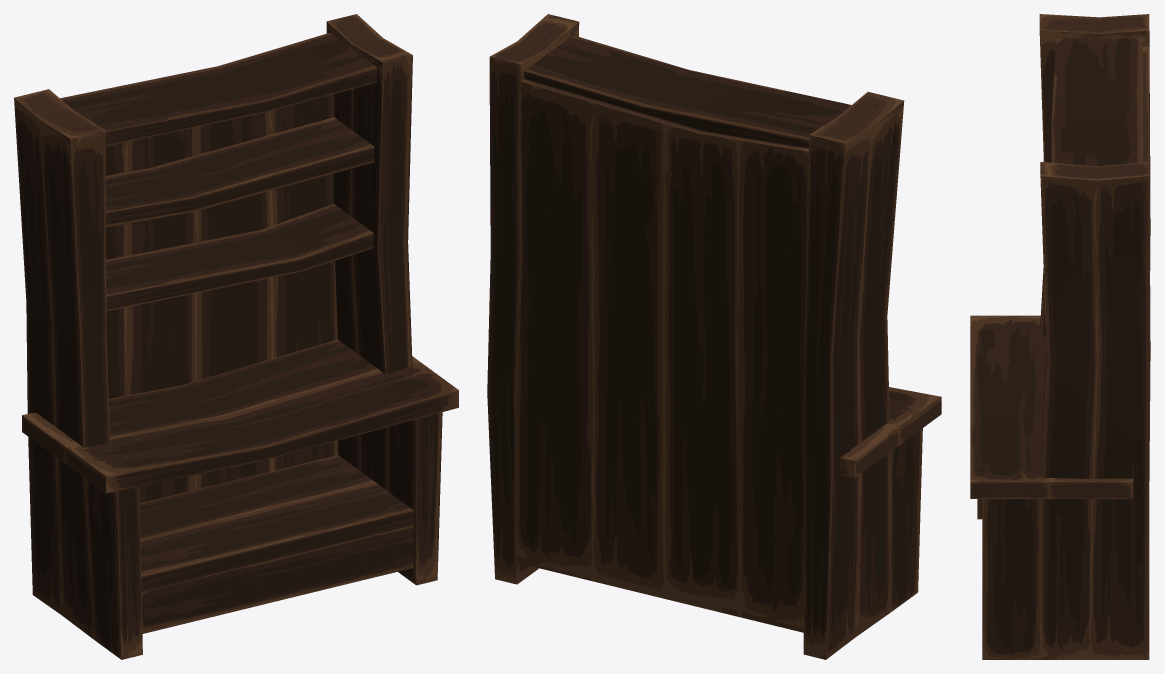
The model's file is SM_PROP_bookshelf_dungeon_01.fbx.
3 renders of one model, left to right at view 1: azimuth 30°, elevation 25°; view 2: azimuth 150°, elevation 25°; view 3: azimuth 270°, elevation 25°, orthographic. The views are drawn at different scales.
Parts seen in each view (by area): view 1: SM_PROP_bookshelf_dungeon_01; view 2: SM_PROP_bookshelf_dungeon_01; view 3: SM_PROP_bookshelf_dungeon_01.
Part boxes in pixels (x1=…): SM_PROP_bookshelf_dungeon_01: x1=14, y1=14, x2=458, y2=659; SM_PROP_bookshelf_dungeon_01: x1=487, y1=14, x2=941, y2=659; SM_PROP_bookshelf_dungeon_01: x1=970, y1=14, x2=1150, y2=659.
Size of what is drawn, in the model's own units: 188 by 255 by 85.53.
